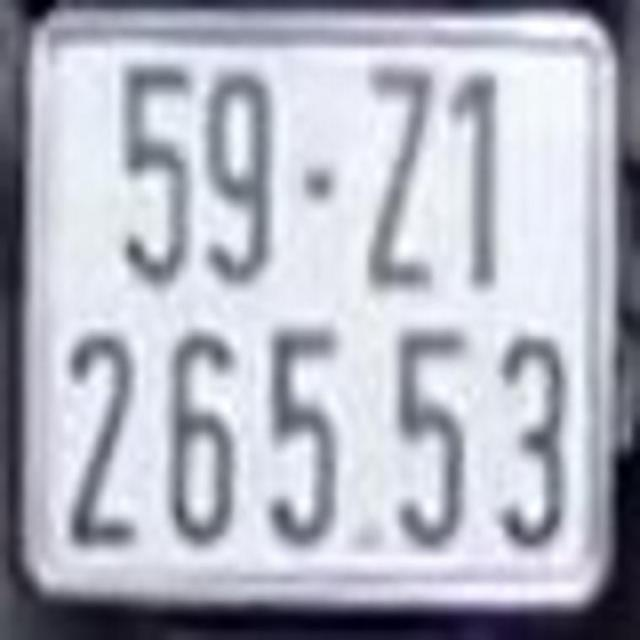1: (446, 68, 500, 279)
2: (66, 334, 140, 540)
3: (499, 335, 570, 544)
5: (270, 320, 342, 546), (395, 325, 466, 546), (123, 63, 196, 276)
6: (164, 326, 240, 540)
9: (205, 67, 278, 280)
Z: (366, 57, 438, 289)
